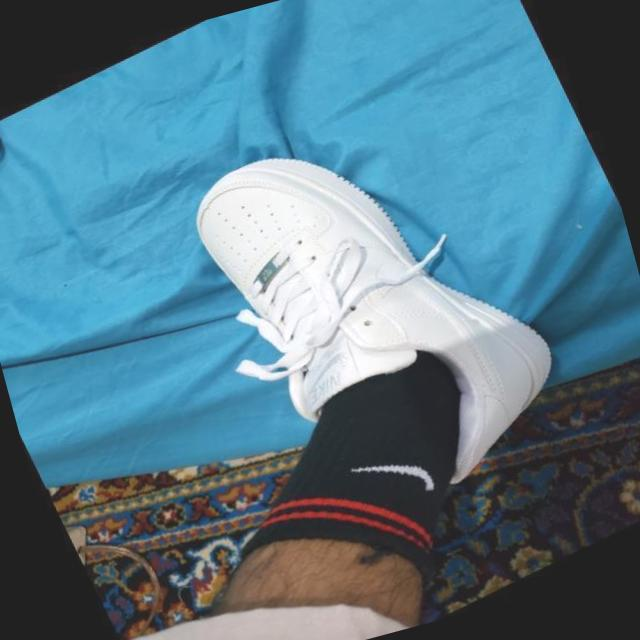nike_fake_airforce: (141, 52, 604, 571)
